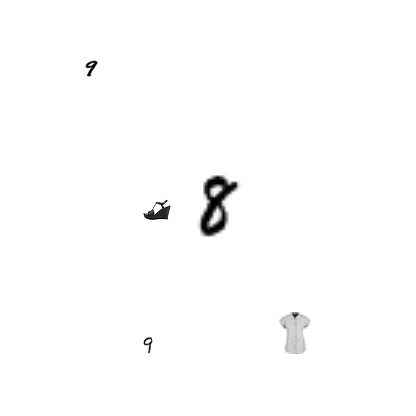8: (171, 161, 255, 245)
9: (80, 56, 102, 78), (137, 332, 159, 354)
Sandal: (143, 195, 171, 223)
Shirt: (273, 312, 315, 354)
